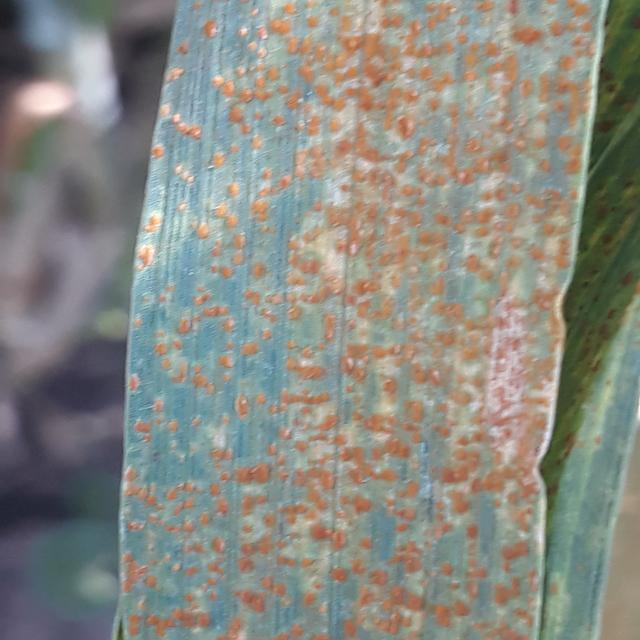orang_rust: (110, 3, 599, 640), (546, 0, 637, 555)
